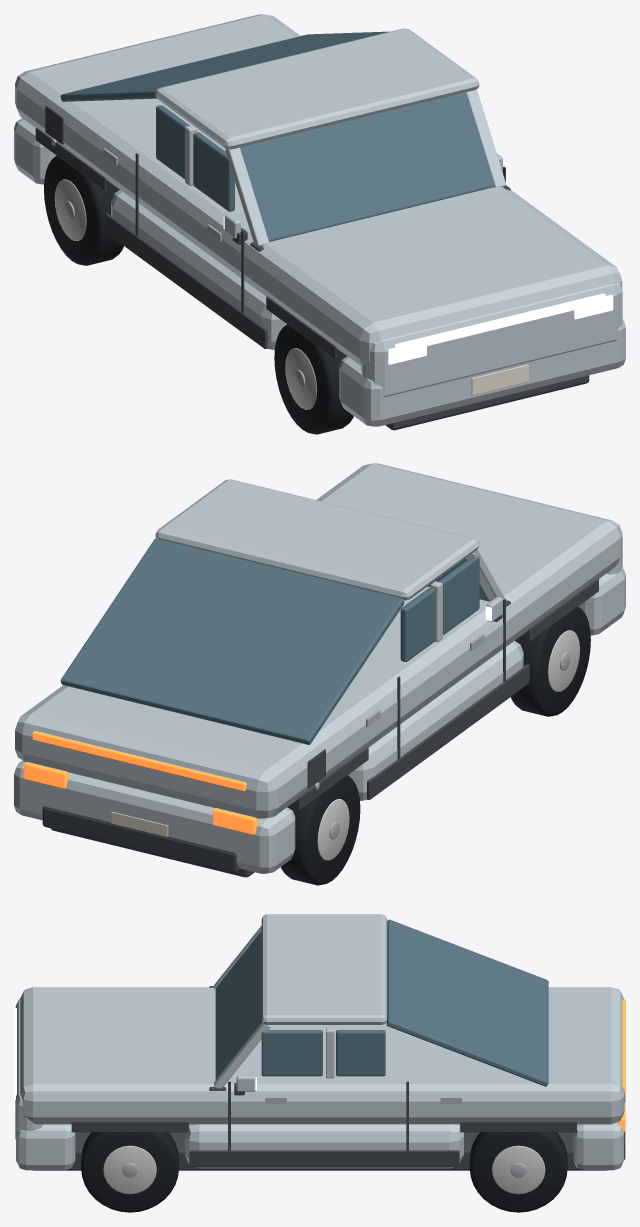
The model's file is electric_car.glb.
The picture shows the model from 3 angles, top to bottom: view 1: azimuth 30°, elevation 25°; view 2: azimuth 150°, elevation 25°; view 3: azimuth 270°, elevation 25°; orthographic projection. The views are drawn at different scales.
Parts seen in each view (by area): view 1: Car beltline, Car windscreen, Car roof, Car nose, Car front valance, Car rocker, Car tailgate glass, Car tyre, Car tyre.001, Car sill cladding.001, Car front side window, Car front light bar (+10 smaller); view 2: Car beltline, Car tailgate glass, Car roof, Car rear valance, Car rocker, Car tyre, Car tyre.001, Car rear diffuser, Car sill cladding.001, Car front side window, Car rear light bar, Car rear side window (+9 smaller); view 3: Car beltline, Car tailgate glass, Car roof, Car rocker, Car tyre.003, Car tyre.002, Car sill cladding.002, Car windscreen, Car front side window.001, Car front valance, Car underbody, Car rear side window.001 (+8 smaller).
Part boxes in pixels (left/top/right/bottom): Car beltline: left=15, top=14, right=622, bottom=366; Car windscreen: left=240, top=92, right=494, bottom=241; Car roof: left=155, top=28, right=479, bottom=149; Car nose: left=361, top=283, right=622, bottom=397; Car front valance: left=339, top=318, right=625, bottom=426; Car rocker: left=111, top=190, right=286, bottom=350; Car tailgate glass: left=60, top=31, right=389, bottom=101; Car tyre: left=274, top=324, right=353, bottom=434; Car tyre.001: left=44, top=155, right=123, bottom=265; Car sill cladding.001: left=105, top=213, right=267, bottom=348; Car front side window: left=193, top=132, right=234, bottom=211; Car front light bar: left=395, top=293, right=605, bottom=352; Car beltline: left=15, top=463, right=622, bottom=818; Car tailgate glass: left=60, top=538, right=404, bottom=744; Car roof: left=155, top=479, right=479, bottom=600; Car rear valance: left=14, top=760, right=295, bottom=873; Car rocker: left=348, top=640, right=523, bottom=800; Car tyre: left=511, top=606, right=590, bottom=716; Car tyre.001: left=281, top=775, right=360, bottom=885; Car rear diffuser: left=42, top=806, right=241, bottom=872; Car sill cladding.001: left=367, top=664, right=529, bottom=799; Car front side window: left=438, top=556, right=479, bottom=634; Car rear light bar: left=32, top=731, right=246, bottom=790; Car rear side window: left=400, top=588, right=435, bottom=661; Car beltline: left=20, top=987, right=624, bottom=1124; Car tailgate glass: left=386, top=919, right=548, bottom=1086; Car roof: left=261, top=914, right=387, bottom=1024; Car rocker: left=185, top=1124, right=463, bottom=1168; Car tyre.003: left=469, top=1132, right=567, bottom=1212; Car tyre.002: left=81, top=1132, right=178, bottom=1212; Car sill cladding.002: left=189, top=1150, right=459, bottom=1166; Car windscreen: left=215, top=931, right=262, bottom=1079; Car front side window.001: left=261, top=1030, right=322, bottom=1076; Car front valance: left=16, top=1124, right=75, bottom=1170; Car underbody: left=33, top=1132, right=606, bottom=1170; Car rear side window.001: left=336, top=1030, right=385, bottom=1076.
Size of the model in its own units: 1.79 by 1.48 by 4.19.
